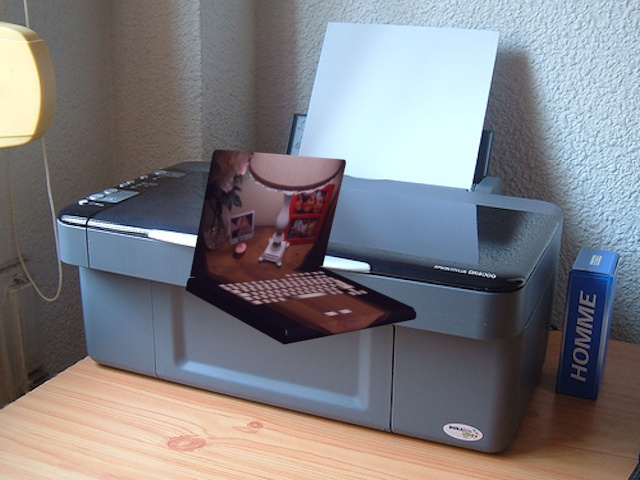laptop_computer: (177, 145, 424, 352)
